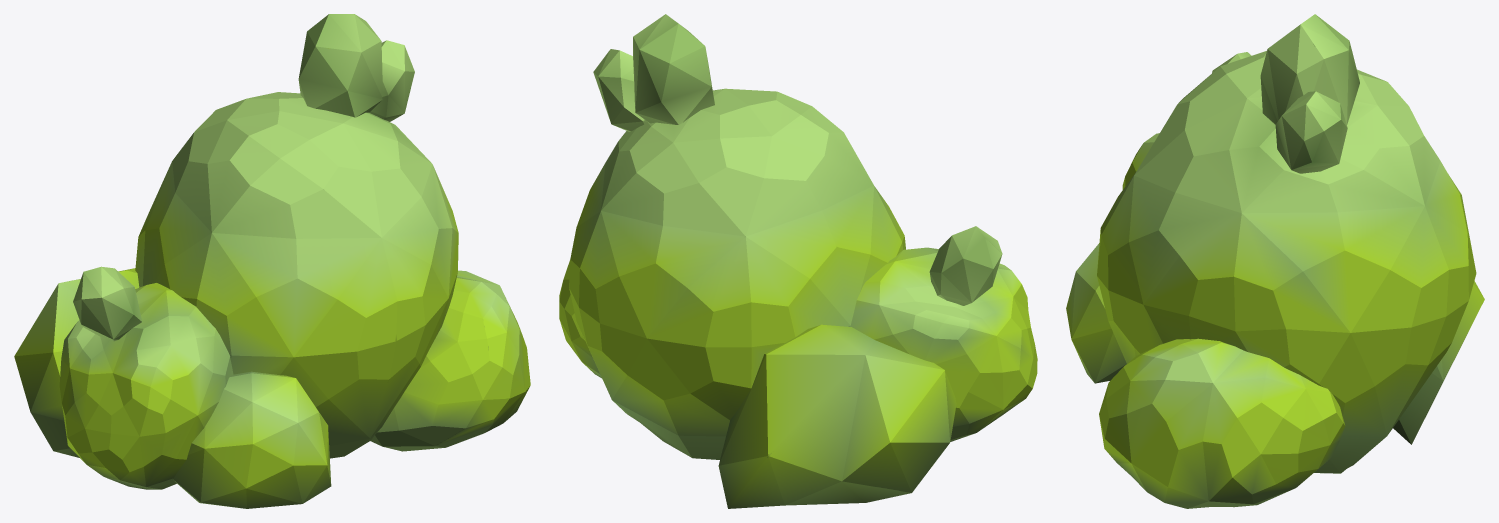
Rendered from bush plain.fbx.
The picture shows the model from 3 angles, left to right: view 1: azimuth 30°, elevation 25°; view 2: azimuth 150°, elevation 25°; view 3: azimuth 270°, elevation 25°; orthographic projection. The views are drawn at different scales.
Visible parts, largest first — view 1: Icosphere.012; view 2: Icosphere.012; view 3: Icosphere.012.
Boxes of the visible parts, x1,y1,x2,y2 form: Icosphere.012: (14,14,530,508); Icosphere.012: (559,14,1037,508); Icosphere.012: (1066,14,1484,508).
Bounding box in the file's own units: 833 × 753 × 593.
